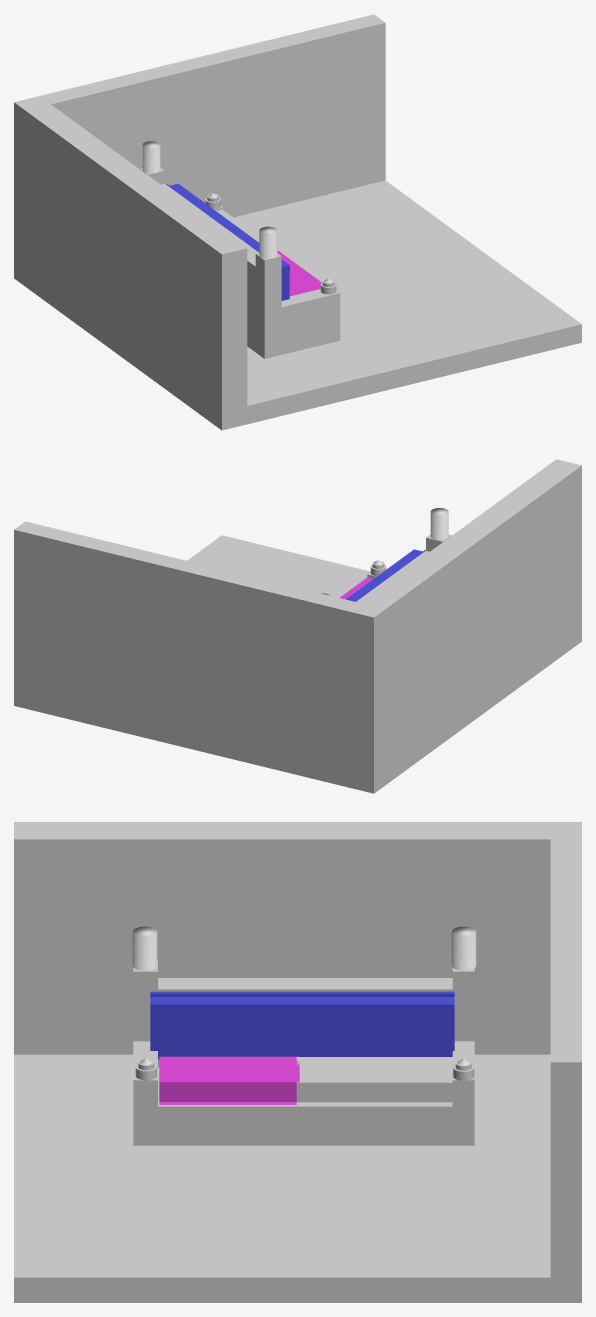
3 renders of one model, top to bottom at view 1: azimuth 30°, elevation 25°; view 2: azimuth 150°, elevation 25°; view 3: azimuth 270°, elevation 25°, orthographic. The views are drawn at different scales.
Parts seen in each view (by area): view 1: Plane.006, Plane, Plane.002, Plane.004, Plane.003, Cylinder, Cylinder.001; view 2: Plane.006, Plane.004, Cylinder.001, Plane; view 3: Plane.006, Plane, Plane.004, Plane.003, Plane.001, Plane.002, Cylinder.001, Cylinder.
Boxes of the visible parts, x1,y1,x2,y2 form: Plane.006: (14, 14, 581, 430); Plane: (140, 167, 340, 358); Plane.002: (277, 250, 321, 296); Plane.004: (220, 223, 289, 300); Plane.003: (166, 183, 235, 227); Cylinder: (142, 141, 160, 173); Cylinder.001: (259, 226, 277, 258); Plane.006: (14, 459, 581, 793); Plane.004: (357, 549, 425, 592); Cylinder.001: (430, 508, 448, 540); Plane: (356, 534, 451, 602); Plane.006: (14, 822, 581, 1302); Plane: (133, 960, 474, 1145); Plane.004: (150, 991, 306, 1059); Plane.003: (298, 991, 454, 1056); Plane.001: (296, 1057, 452, 1105); Plane.002: (159, 1056, 299, 1104); Cylinder.001: (132, 926, 157, 970); Cylinder: (451, 926, 476, 970).
Bounding box in the file's own units: 110 × 110 × 51.42.
